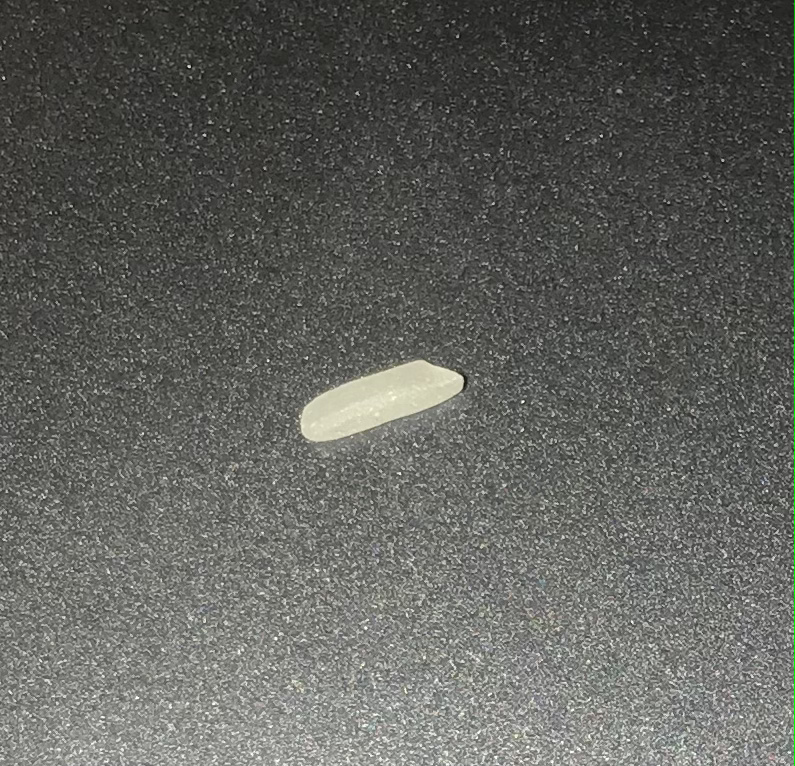Gao Tam Thom: (286, 342, 475, 450)
